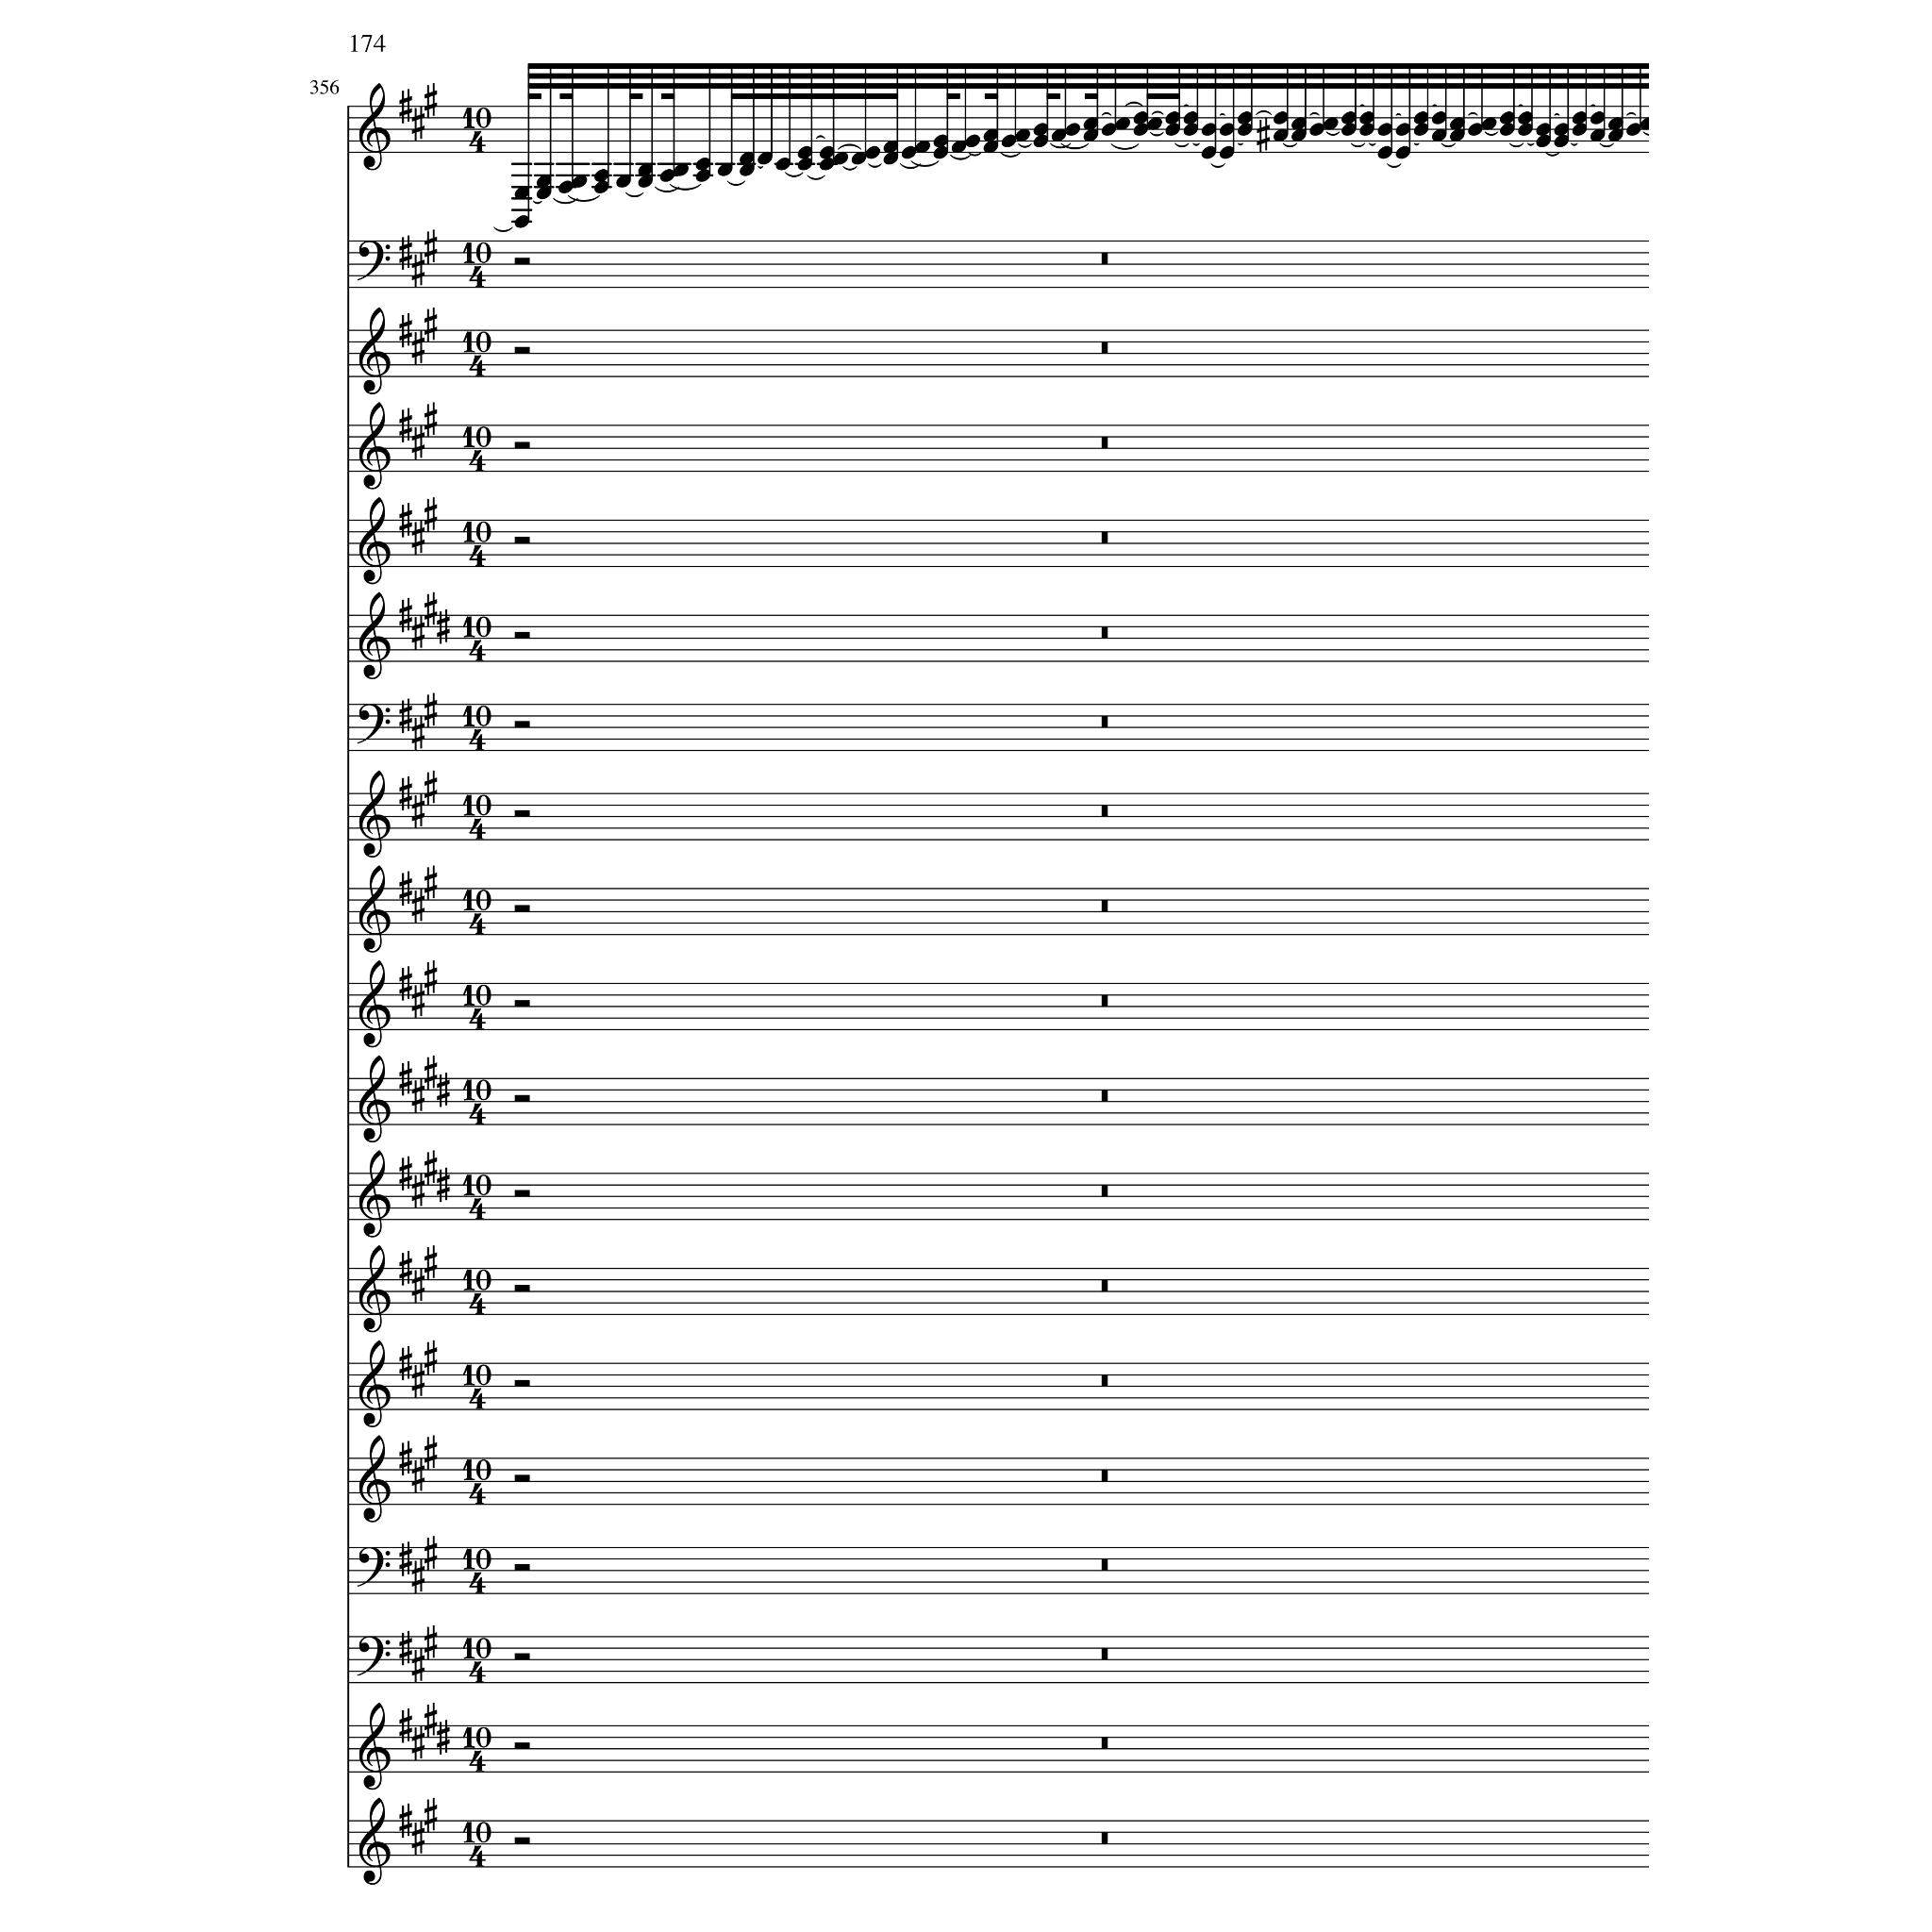fClef: (357, 1636, 391, 1677), (357, 704, 391, 745), (357, 241, 391, 281), (357, 1547, 391, 1587)
gClef: (358, 307, 391, 395), (358, 83, 391, 172), (358, 1702, 391, 1790), (358, 1435, 391, 1524), (358, 1340, 391, 1428), (358, 1797, 391, 1886), (358, 591, 391, 680), (358, 770, 391, 858), (358, 497, 391, 586), (358, 402, 391, 491), (358, 1244, 391, 1333), (358, 1150, 391, 1239), (358, 1055, 391, 1143), (358, 960, 391, 1049), (358, 865, 391, 954)
noteheadBlack: (694, 168, 711, 183), (658, 168, 675, 183), (593, 168, 608, 183), (883, 140, 898, 155), (983, 140, 998, 155), (915, 140, 930, 155), (951, 140, 966, 155), (1291, 118, 1307, 131), (1449, 129, 1466, 142), (1430, 111, 1447, 125), (1430, 129, 1447, 142), (1449, 118, 1466, 131), (1413, 111, 1430, 125), (1413, 124, 1430, 137), (1498, 111, 1515, 125), (1498, 124, 1515, 137), (1394, 124, 1411, 137), (1394, 146, 1411, 159), (1358, 111, 1375, 125), (1358, 124, 1375, 137), (1607, 118, 1624, 131), (1553, 124, 1570, 137), (1553, 135, 1570, 148), (1517, 111, 1534, 125), (1517, 124, 1534, 137), (1607, 129, 1624, 142), (1589, 111, 1606, 125), (1589, 129, 1606, 142), (694, 158, 711, 171), (757, 152, 774, 165), (1291, 129, 1307, 142), (615, 175, 632, 189), (513, 187, 530, 200), (513, 215, 530, 228), (1100, 124, 1117, 137), (1064, 124, 1081, 137), (1132, 124, 1149, 137), (1132, 111, 1149, 125), (1164, 111, 1181, 125), (1164, 124, 1181, 137), (864, 146, 881, 159), (1219, 124, 1236, 137), (796, 158, 813, 171), (796, 146, 813, 159), (1272, 111, 1289, 125), (1272, 129, 1289, 142), (1219, 146, 1236, 159), (1200, 146, 1217, 159), (1000, 135, 1017, 148), (1032, 135, 1049, 148), (1032, 124, 1049, 137), (932, 146, 949, 159), (932, 135, 949, 148), (900, 146, 917, 159), (1200, 124, 1217, 137), (964, 135, 981, 148), (1481, 118, 1496, 131), (1468, 124, 1483, 137), (1341, 111, 1357, 125), (1341, 124, 1357, 137), (1324, 118, 1339, 131), (1309, 124, 1324, 137), (1377, 146, 1392, 159), (1377, 124, 1392, 137), (1626, 124, 1641, 137), (1536, 124, 1551, 137), (1536, 135, 1551, 148), (1572, 111, 1587, 125), (1572, 124, 1587, 137), (674, 163, 689, 176), (638, 163, 653, 176), (638, 175, 653, 189), (740, 152, 755, 165), (717, 163, 732, 176), (536, 175, 551, 189), (536, 187, 551, 200), (593, 181, 608, 194), (572, 175, 587, 189), (558, 181, 574, 194), (740, 163, 755, 176), (1083, 129, 1098, 142), (1083, 118, 1098, 131), (1183, 111, 1198, 125), (1183, 124, 1198, 137), (1115, 118, 1130, 131), (1147, 118, 1162, 131), (819, 146, 834, 159), (1238, 111, 1253, 125), (851, 152, 866, 165), (1238, 124, 1253, 137), (833, 152, 848, 165), (883, 152, 898, 165), (1051, 129, 1066, 142), (775, 158, 791, 171), (819, 158, 834, 171), (983, 129, 998, 142), (1015, 129, 1030, 142)
restDoubleWhole: (1101, 1558, 1108, 1572), (1101, 1832, 1108, 1845), (1101, 341, 1108, 355), (1101, 626, 1108, 640), (1101, 900, 1108, 913), (1101, 994, 1108, 1008), (1101, 1185, 1108, 1198), (1101, 1279, 1108, 1292), (1101, 1649, 1108, 1660), (1101, 1738, 1108, 1749), (1101, 1470, 1108, 1481), (1101, 253, 1108, 264), (1101, 438, 1108, 449), (1101, 532, 1108, 543), (1101, 717, 1108, 728), (1101, 806, 1108, 817), (1101, 1091, 1108, 1102), (1101, 1375, 1108, 1387)
restHalf: (513, 1474, 530, 1482), (513, 1837, 530, 1844), (513, 1742, 530, 1750), (513, 1653, 530, 1660), (513, 1564, 530, 1572), (513, 1379, 530, 1387), (513, 1285, 530, 1292), (513, 1190, 530, 1197), (513, 1095, 530, 1103), (513, 1000, 530, 1008), (513, 905, 530, 912), (513, 809, 530, 817), (513, 721, 530, 728), (513, 632, 530, 640), (513, 537, 530, 544), (513, 441, 530, 449), (513, 347, 530, 355), (513, 258, 530, 265)
